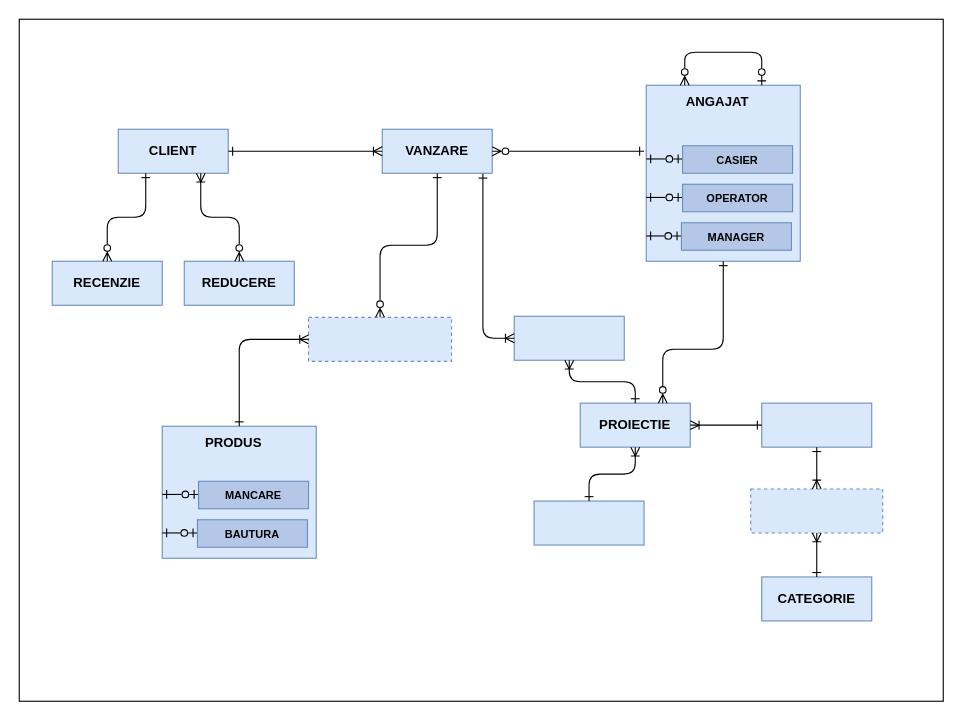
This 963x721 diagram has some shape labels left out. Here are the shapes that lost their labels. From the top down, the centre of each, then its label:
At pixel 379 338: "VANZARE_PRODUS".
At pixel 568 337: "BILET".
At pixel 816 424: "FILM".
At pixel 588 522: "SALA".
At pixel 816 510: "CATEGORIE_FILM".
